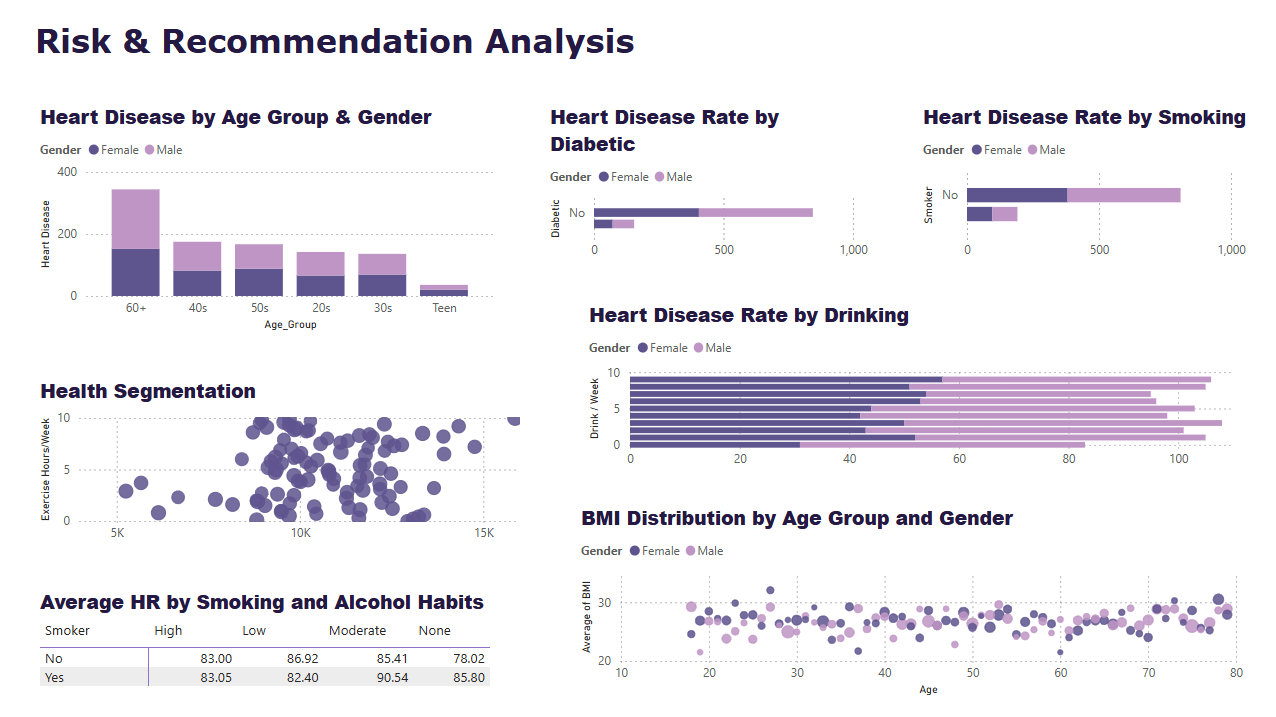

The page's visual inventory and layout, read from the dashboard file:
{"tool":"powerbi","page":{"name":"Page 2","canvas":[1280,720],"ordinal":1},"visuals":[{"type":"columnChart","title":"Heart Disease by Age Group & Gender","fields":{"Y":["CountNonNull(health_activity_data.Heart_Disease)"],"Category":["health_activity_data.Age_Group"],"Series":["health_activity_data.Gender"]},"box":[32.3,99,474,241.7],"z":0},{"type":"scatterChart","title":"BMI Distribution by Age Group and Gender","fields":{"X":["health_activity_data.Age"],"Y":["Avg(health_activity_data.BMI)"],"Series":["health_activity_data.Gender"],"Size":["Sum(health_activity_data.ID)"]},"box":[572.9,500,682.3,206.2],"z":1000},{"type":"barChart","title":"Heart Disease Rate by Smoking","fields":{"Y":["CountNonNull(health_activity_data.Heart_Disease)"],"Category":["health_activity_data.Smoker"],"Series":["health_activity_data.Gender"]},"box":[914.6,99,343.8,175],"z":2000},{"type":"barChart","title":"Heart Disease Rate by Diabetic","fields":{"Y":["CountNonNull(health_activity_data.Heart_Disease)"],"Series":["health_activity_data.Gender"],"Category":["health_activity_data.Diabetic"]},"box":[541.7,99,338.5,175],"z":3000},{"type":"barChart","title":"Heart Disease Rate by Drinking","fields":{"Y":["CountNonNull(health_activity_data.Heart_Disease)"],"Series":["health_activity_data.Gender"],"Category":["health_activity_data.Alcohol_Consumption_per_Week"]},"box":[581.2,296.9,674,186.5],"z":4000},{"type":"scatterChart","title":"Health Segmentation","fields":{"X":["Avg(health_activity_data.Daily_Steps)"],"Y":["health_activity_data.Exercise_Hours_per_Week"],"Size":["Avg(health_activity_data.Calories_Intake)"]},"box":[32.3,372.9,509.4,184.4],"z":5000},{"type":"pivotTable","title":"Average HR by Smoking and Alcohol Habits","fields":{"Rows":["health_activity_data.Smoker"],"Values":["Avg(health_activity_data.Heart_Rate)"],"Columns":["health_activity_data.Alcohol_Consumption_Bin"]},"box":[32.3,584.4,474,121.9],"z":6000},{"type":"textbox","box":[32.3,16.7,630.2,58.3],"z":7000}]}

Visuals, with their boxes in screenshot pixels (x1, y1, x2, y2), scaled from the page's 1280x720 canvas onto the 1276x717 screenshot:
"Heart Disease by Age Group & Gender" columnChart: bbox=[32, 99, 505, 339]
"BMI Distribution by Age Group and Gender" scatterChart: bbox=[571, 498, 1251, 703]
"Heart Disease Rate by Smoking" barChart: bbox=[912, 99, 1254, 273]
"Heart Disease Rate by Diabetic" barChart: bbox=[540, 99, 877, 273]
"Heart Disease Rate by Drinking" barChart: bbox=[579, 296, 1251, 481]
"Health Segmentation" scatterChart: bbox=[32, 371, 540, 555]
"Average HR by Smoking and Alcohol Habits" pivotTable: bbox=[32, 582, 505, 703]
textbox: bbox=[32, 17, 660, 75]
